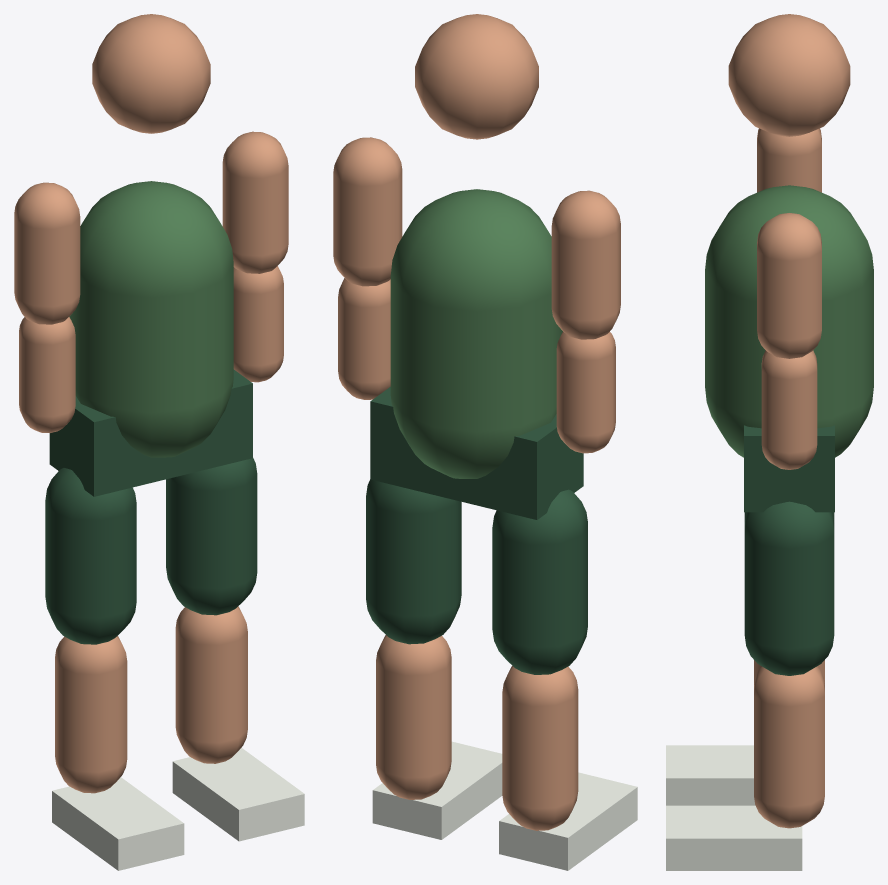
The model's file is telo-trainer.glb.
The picture shows the model from 3 angles, left to right: view 1: azimuth 30°, elevation 25°; view 2: azimuth 150°, elevation 25°; view 3: azimuth 270°, elevation 25°; orthographic projection. The views are drawn at different scales.
Visible parts, largest first — view 1: Spine, LeftUpperLeg, RightUpperLeg, Head, LeftLowerLeg, RightLowerLeg, Hips, LeftUpperArm, RightUpperArm, LeftFoot, RightFoot, LeftLowerArm (+1 smaller); view 2: Spine, LeftUpperLeg, RightUpperLeg, Head, LeftLowerLeg, RightLowerLeg, Hips, LeftUpperArm, RightUpperArm, LeftFoot, RightFoot, LeftLowerArm (+1 smaller); view 3: Spine, RightUpperLeg, Head, RightLowerLeg, RightUpperArm, RightFoot, RightLowerArm, Hips, LeftFoot, LeftUpperArm.
Boxes of the visible parts, x1,y1,x2,y2 form: Spine: (69,181,233,457); LeftUpperLeg: (45,468,136,644); RightUpperLeg: (166,458,257,615); Head: (92,14,210,133); LeftLowerLeg: (55,636,127,793); RightLowerLeg: (175,606,247,763); Hips: (49,369,252,496); LeftUpperArm: (14,182,80,324); RightUpperArm: (222,131,288,273); LeftFoot: (52,777,184,870); RightFoot: (172,748,304,841); LeftLowerArm: (19,317,75,433); Spine: (390,189,562,478); LeftUpperLeg: (492,489,587,674); RightUpperLeg: (366,479,461,644); Head: (415,14,538,139); LeftLowerLeg: (502,666,578,830); RightLowerLeg: (376,635,451,799); Hips: (370,387,583,519); LeftUpperArm: (551,190,620,339); RightUpperArm: (333,137,402,286); LeftFoot: (499,772,637,870); RightFoot: (372,741,502,839); LeftLowerArm: (556,331,615,453); Spine: (705,185,873,457); RightUpperLeg: (744,501,834,675); Head: (728,14,850,136); RightLowerLeg: (754,666,824,828); RightUpperArm: (757,213,821,358); RightFoot: (666,805,802,870); RightLowerArm: (761,350,817,469); Hips: (744,425,834,512); LeftFoot: (666,745,755,805); LeftUpperArm: (757,128,821,192).
Size of what is drawn, in the model's own units: 0.8924 by 2.52 by 0.5888.
